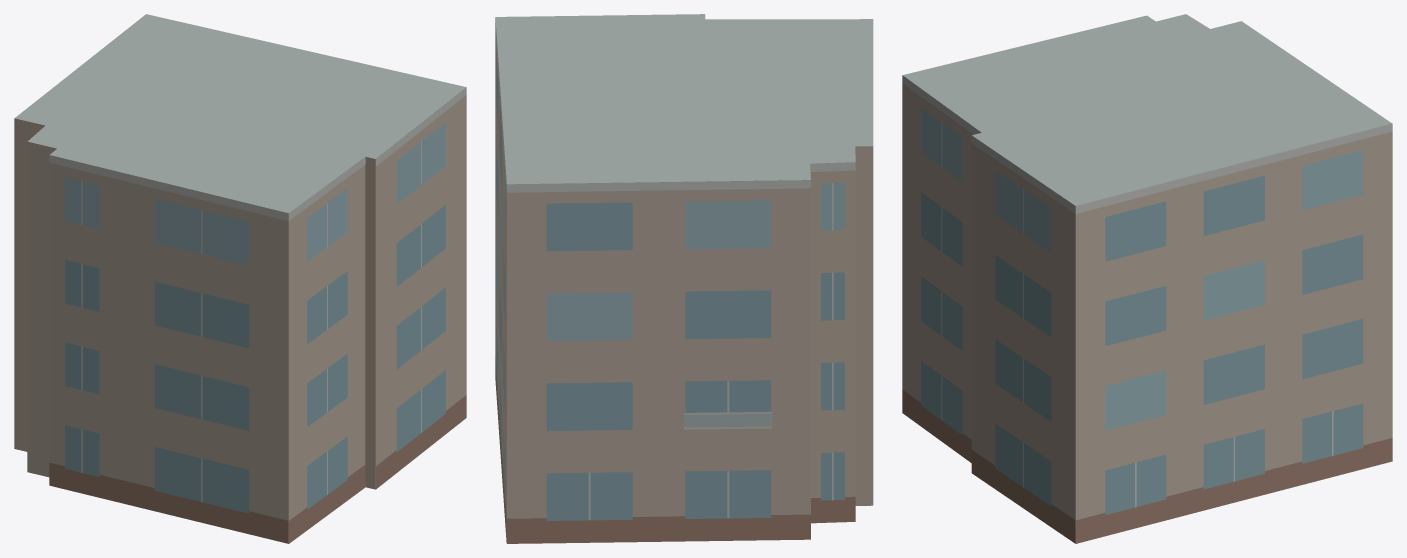
The model's file is survey-upis-32536146.glb.
3 renders of one model, left to right at view 1: azimuth 30°, elevation 25°; view 2: azimuth 150°, elevation 25°; view 3: azimuth 270°, elevation 25°, orthographic. The views are drawn at different scales.
Parts seen in each view (by area): view 1: survey-upis-32536146.tmp; view 2: survey-upis-32536146.tmp; view 3: survey-upis-32536146.tmp.
Part boxes in pixels (<box>): survey-upis-32536146.tmp: <box>14,14,466,543</box>; survey-upis-32536146.tmp: <box>495,14,873,543</box>; survey-upis-32536146.tmp: <box>902,14,1392,543</box>.
Bounding box in the file's own units: 12.69 × 10.4 × 13.68.
